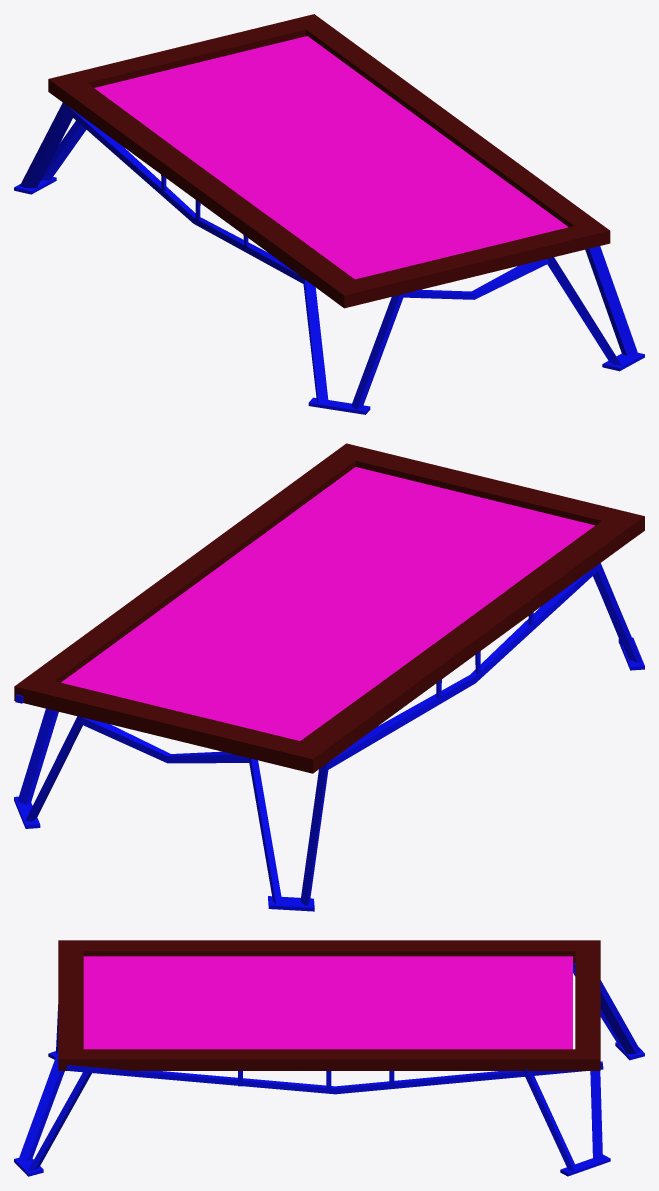
The model's file is Bouig.fbx.
3 renders of one model, top to bottom at view 1: azimuth 30°, elevation 25°; view 2: azimuth 150°, elevation 25°; view 3: azimuth 270°, elevation 25°, orthographic. The views are drawn at different scales.
Parts seen in each view (by area): view 1: Plane, Cube, Box001.001; view 2: Plane, Cube, Box001.001; view 3: Plane, Cube, Box001.001.
Part boxes in pixels (x1=…): Plane: x1=94, y1=36, x2=568, y2=279; Cube: x1=48, y1=14, x2=610, y2=308; Box001.001: x1=14, y1=102, x2=644, y2=414; Plane: x1=61, y1=467, x2=595, y2=740; Cube: x1=14, y1=443, x2=644, y2=773; Box001.001: x1=14, y1=563, x2=644, y2=911; Plane: x1=83, y1=956, x2=572, y2=1049; Cube: x1=58, y1=940, x2=600, y2=1070; Box001.001: x1=14, y1=963, x2=644, y2=1176.
Bounding box in the file's own units: 101 × 38.45 × 200.
